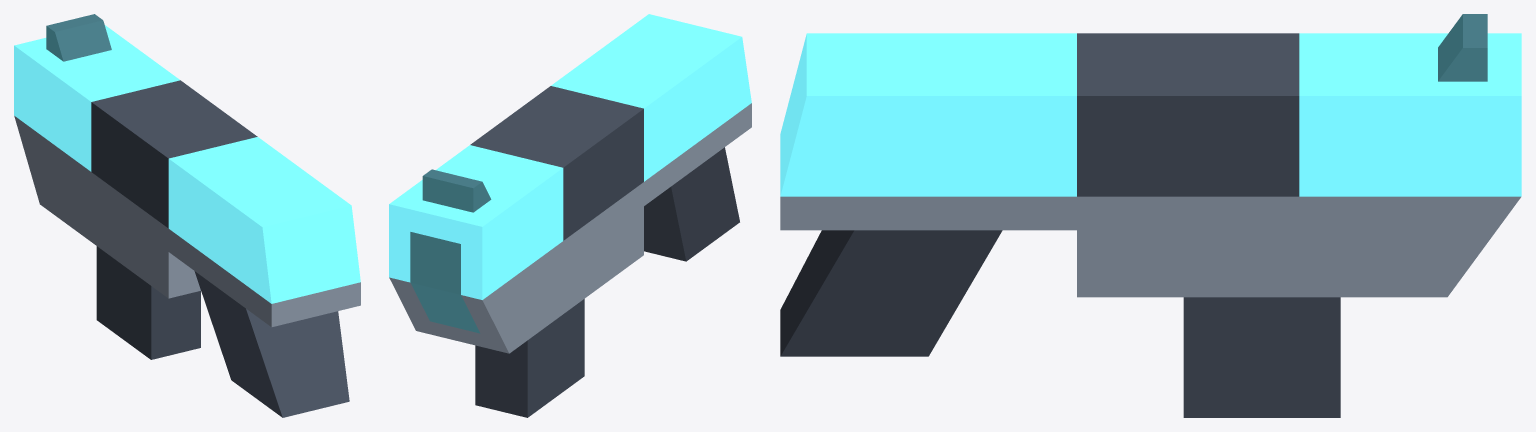
Rendered from weapon_rifle.glb.
The picture shows the model from 3 angles, left to right: view 1: azimuth 30°, elevation 25°; view 2: azimuth 150°, elevation 25°; view 3: azimuth 270°, elevation 25°; orthographic projection. The views are drawn at different scales.
Parts seen in each view (by area): view 1: weapon_rifle; view 2: weapon_rifle; view 3: weapon_rifle.
Part boxes in pixels (left/top/right/bottom): weapon_rifle: left=14, top=14, right=360, bottom=417; weapon_rifle: left=389, top=14, right=751, bottom=417; weapon_rifle: left=780, top=14, right=1521, bottom=417.
Bounding box in the file's own units: 0.1 × 0.275 × 0.5.
